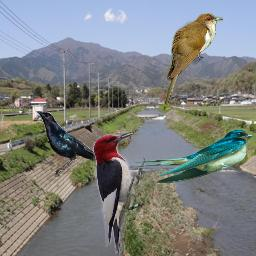Crow: (36, 111, 121, 177)
Cuckoo: (163, 12, 223, 112)
Swallow: (132, 129, 254, 184)
Woodpecker: (93, 131, 145, 256)
